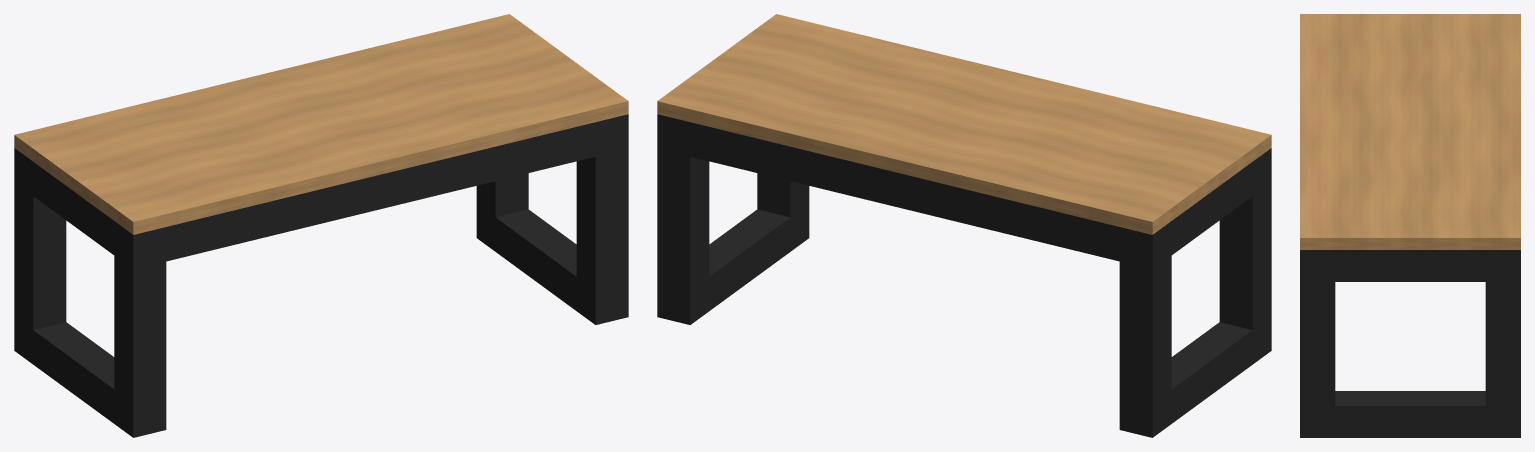
Rendered from mesa-living-nord-miel-negro-8cm.glb.
3 views of the same model, side by side, from view 1: azimuth 30°, elevation 25°; view 2: azimuth 150°, elevation 25°; view 3: azimuth 270°, elevation 25° (orthographic). The views are drawn at different scales.
Visible parts, largest first — view 1: Tapa de madera maciza 120 x 50 cm, Pata recta de hierro 8 x 8 cm (×4), Larguero longitudinal superior recto, Travesaño inferior recto (×2), Travesaño superior recto; view 2: Tapa de madera maciza 120 x 50 cm, Pata recta de hierro 8 x 8 cm (×4), Larguero longitudinal superior recto, Travesaño inferior recto (×2), Travesaño superior recto; view 3: Tapa de madera maciza 120 x 50 cm, Pata recta de hierro 8 x 8 cm (×2), Travesaño inferior recto, Travesaño superior recto.
Boxes of the visible parts, left/top/right/bottom form: Tapa de madera maciza 120 x 50 cm: left=14, top=14, right=628, bottom=234; Pata recta de hierro 8 x 8 cm (×4): left=14, top=114, right=628, bottom=437; Larguero longitudinal superior recto: left=166, top=122, right=595, bottom=261; Travesaño inferior recto (×2): left=24, top=209, right=585, bottom=429; Travesaño superior recto: left=24, top=156, right=123, bottom=261; Tapa de madera maciza 120 x 50 cm: left=657, top=14, right=1271, bottom=234; Pata recta de hierro 8 x 8 cm (×4): left=657, top=114, right=1271, bottom=437; Larguero longitudinal superior recto: left=690, top=122, right=1119, bottom=261; Travesaño inferior recto (×2): left=700, top=209, right=1261, bottom=430; Travesaño superior recto: left=1162, top=155, right=1261, bottom=262; Tapa de madera maciza 120 x 50 cm: left=1300, top=14, right=1520, bottom=249; Pata recta de hierro 8 x 8 cm (×2): left=1300, top=250, right=1520, bottom=437; Travesaño inferior recto: left=1318, top=391, right=1502, bottom=437; Travesaño superior recto: left=1317, top=250, right=1503, bottom=281.
Size of the model in its own units: 1.2 by 0.5 by 0.5.
Materials: 2 (1 with a texture image).
